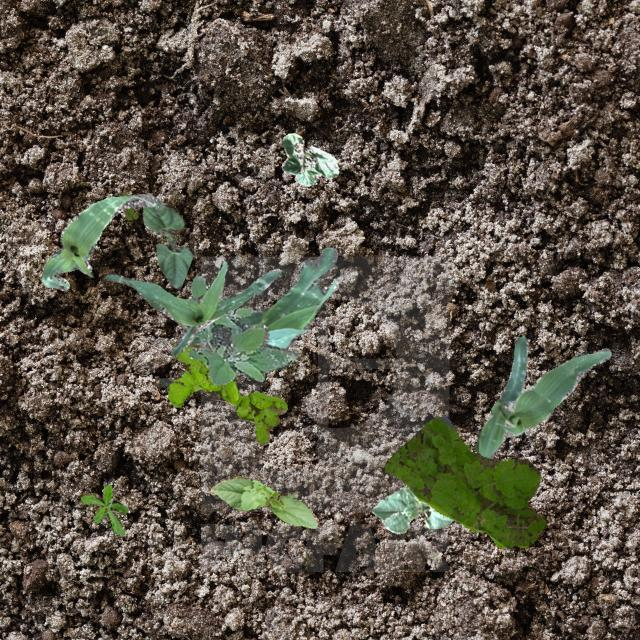crop: (160, 246, 338, 386), (104, 260, 280, 356), (474, 334, 610, 458), (41, 192, 156, 290), (208, 474, 318, 528), (142, 192, 192, 288), (370, 486, 452, 532), (280, 132, 338, 184)
weed: (383, 416, 544, 546), (186, 274, 298, 384), (166, 342, 286, 444), (80, 483, 126, 535), (123, 206, 137, 218)
